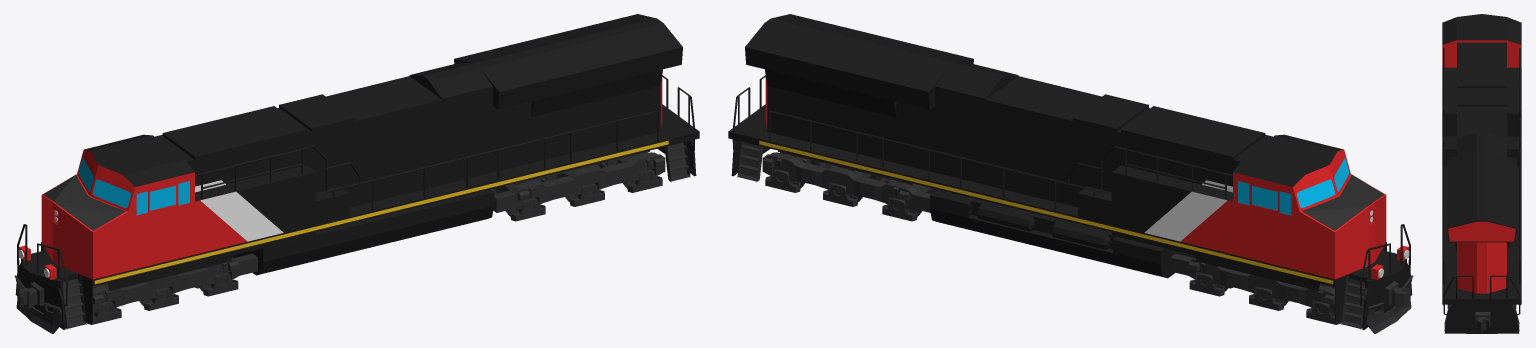
3 views of the same model, side by side, from view 1: azimuth 30°, elevation 25°; view 2: azimuth 150°, elevation 25°; view 3: azimuth 270°, elevation 25° (orthographic). The views are drawn at different scales.
Visible parts, largest first — view 1: Body, Fuel Tank, BBogey, Railing, FBogey, FPlow, FStairs, BStairs, FCoupler; view 2: Body, Fuel Tank, BBogey, Railing, FBogey, FPlow, FStairs, BStairs, FCoupler; view 3: Body, BPlow, Railing, BCoupler, BStairs.
Part boxes in pixels (box(x1,y1,x2,y2)): Body: box(18, 14, 699, 324); Fuel Tank: box(232, 189, 494, 275); BBogey: box(493, 150, 665, 212); Railing: box(17, 75, 695, 306); FBogey: box(93, 253, 257, 312); FPlow: box(14, 263, 65, 333); FStairs: box(43, 249, 86, 329); BStairs: box(664, 142, 690, 182); FCoupler: box(19, 282, 44, 308); Body: box(728, 14, 1409, 324); Fuel Tank: box(930, 189, 1195, 278); BBogey: box(762, 150, 930, 212); Railing: box(733, 75, 1410, 306); FBogey: box(1170, 253, 1334, 312); FPlow: box(1362, 263, 1413, 333); FStairs: box(1341, 249, 1384, 329); BStairs: box(737, 142, 763, 182); FCoupler: box(1385, 281, 1409, 307); Body: box(1442, 14, 1521, 311); BPlow: box(1444, 304, 1519, 333); Railing: box(1443, 48, 1520, 315); BCoupler: box(1475, 312, 1490, 333); BStairs: box(1444, 304, 1519, 331).
Size of the model in its own units: 23.7 by 5.15 by 3.12.
Materials: 2 (1 with a texture image).
